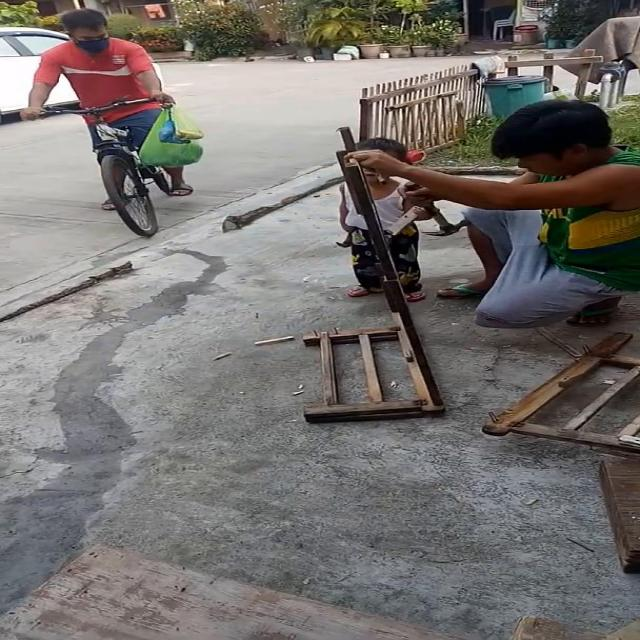hammer: (404, 178, 471, 239)
